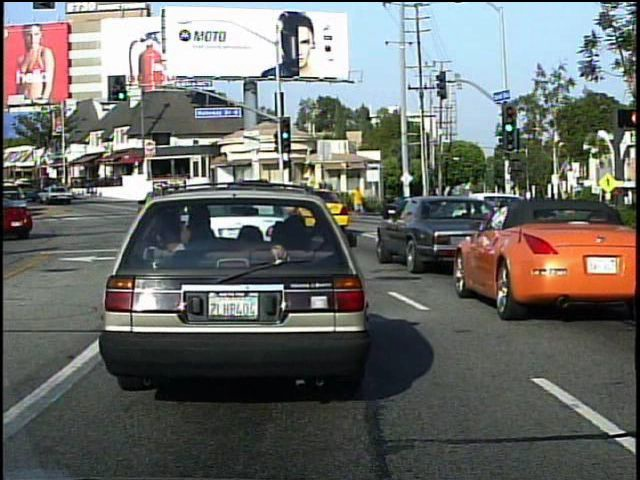person: (429, 185, 453, 230), (351, 184, 368, 221)
